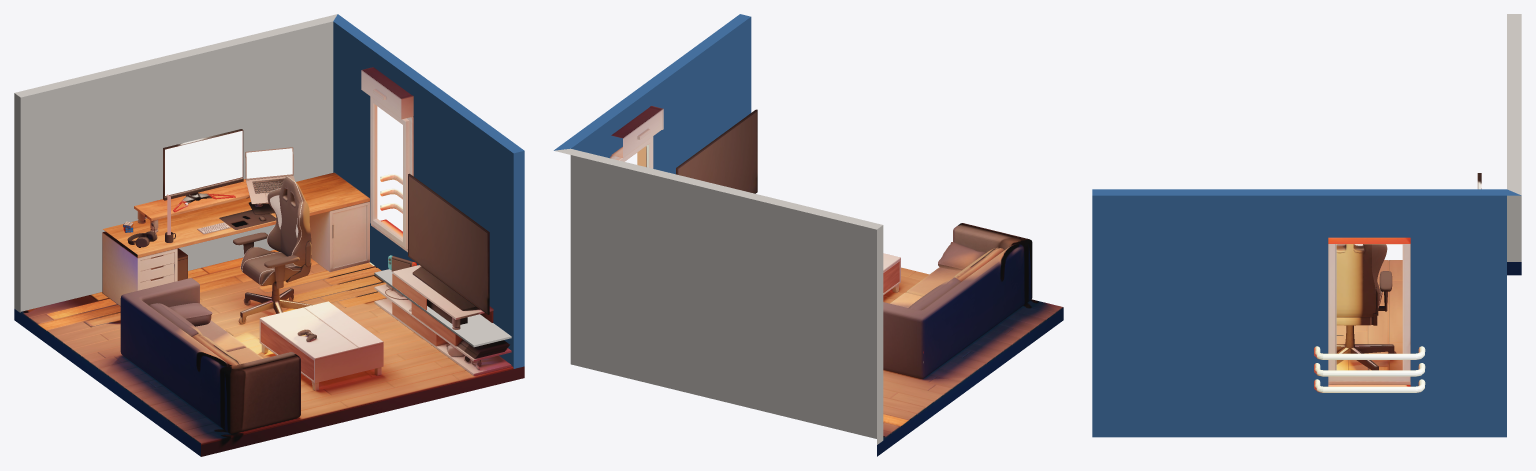
File: original-room-latest.glb
The picture shows the model from 3 angles, left to right: view 1: azimuth 30°, elevation 25°; view 2: azimuth 150°, elevation 25°; view 3: azimuth 270°, elevation 25°; orthographic projection. The views are drawn at different scales.
Parts seen in each view (by area): view 1: Room_Baked, Office_0043.001, Architecture_0011.001, Monitor_Screen_Dynamic.001, Architecture_0001.001, Laptop_Screen_Dynamic.001; view 2: Office_0043.001, Room_Baked, Architecture_0011.001; view 3: Architecture_0011.001, Room_Baked, Office_0043.001.
Part boxes in pixels (box(x1,y1,x2,y2)): Room_Baked: box(14, 67, 524, 456); Office_0043.001: box(14, 14, 337, 312); Architecture_0011.001: box(333, 14, 524, 368); Monitor_Screen_Dynamic.001: box(165, 131, 242, 195); Architecture_0001.001: box(374, 269, 511, 347); Laptop_Screen_Dynamic.001: box(246, 148, 292, 178); Office_0043.001: box(554, 148, 883, 444); Room_Baked: box(610, 106, 1063, 456); Architecture_0011.001: box(554, 14, 751, 174); Architecture_0011.001: box(1092, 189, 1521, 437); Room_Baked: box(1314, 173, 1521, 392); Office_0043.001: box(1507, 14, 1521, 261).
Size of the model in its own units: 10.5 by 6.71 by 10.
6 materials, 1 textured.
